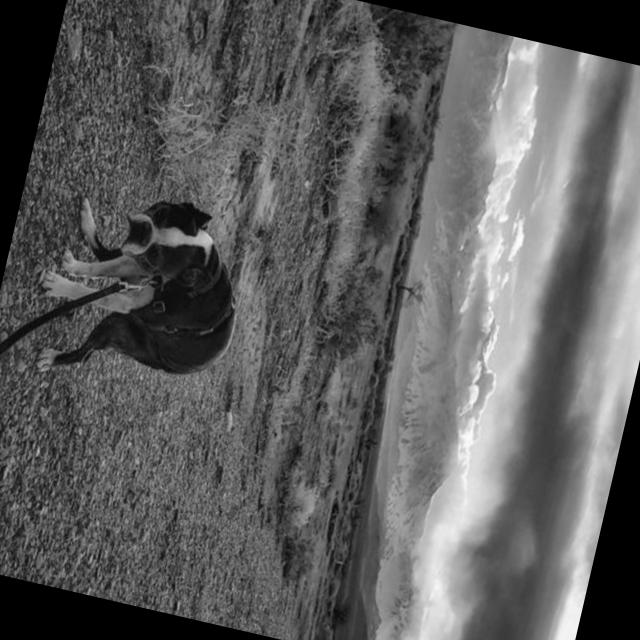squatting: (12, 163, 264, 428)
